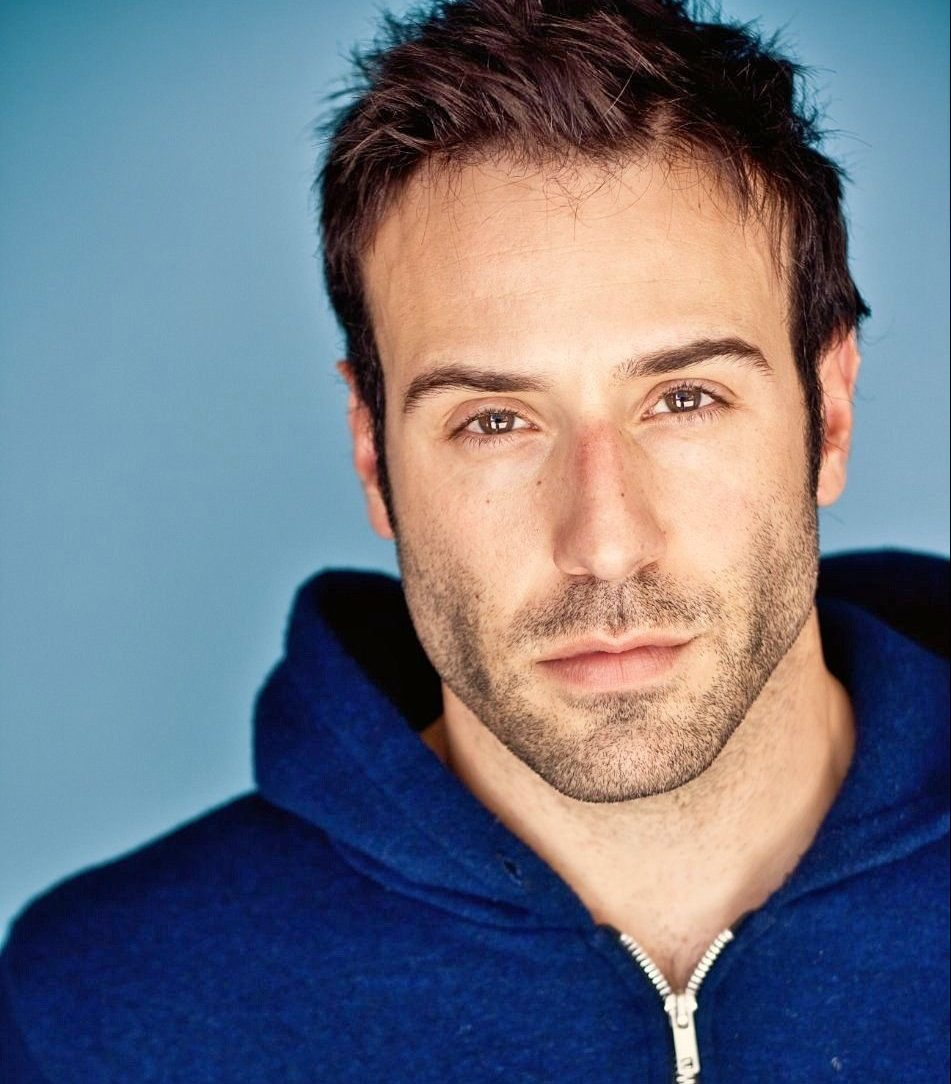bad: (348, 297, 810, 759)
